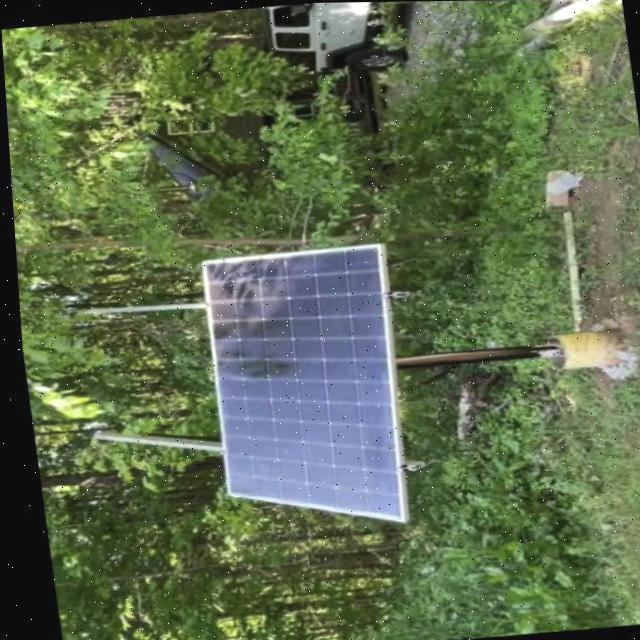Normal Solar Panel: (191, 243, 415, 536)
